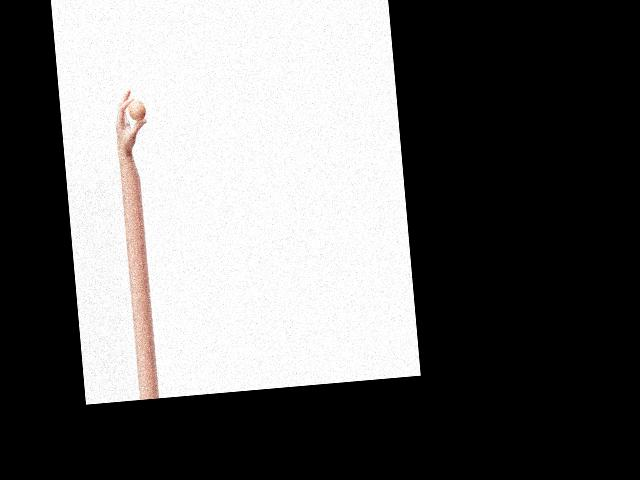egg: (128, 99, 146, 122)
